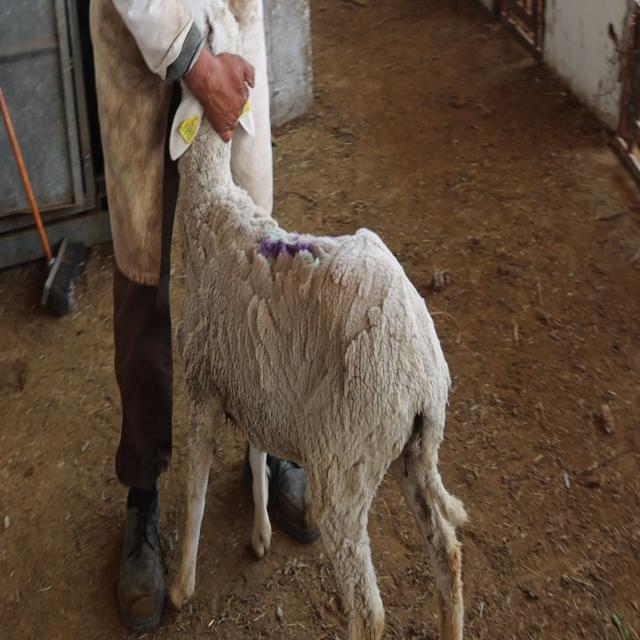Score_2: (169, 84, 468, 639)
